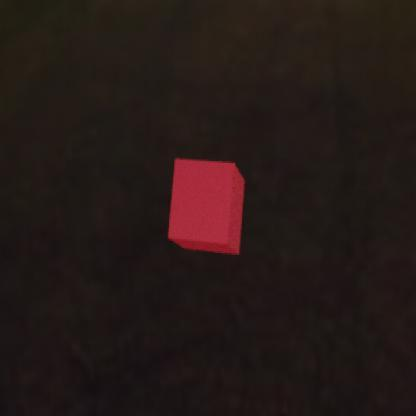red_cube: (166, 158, 244, 255)
